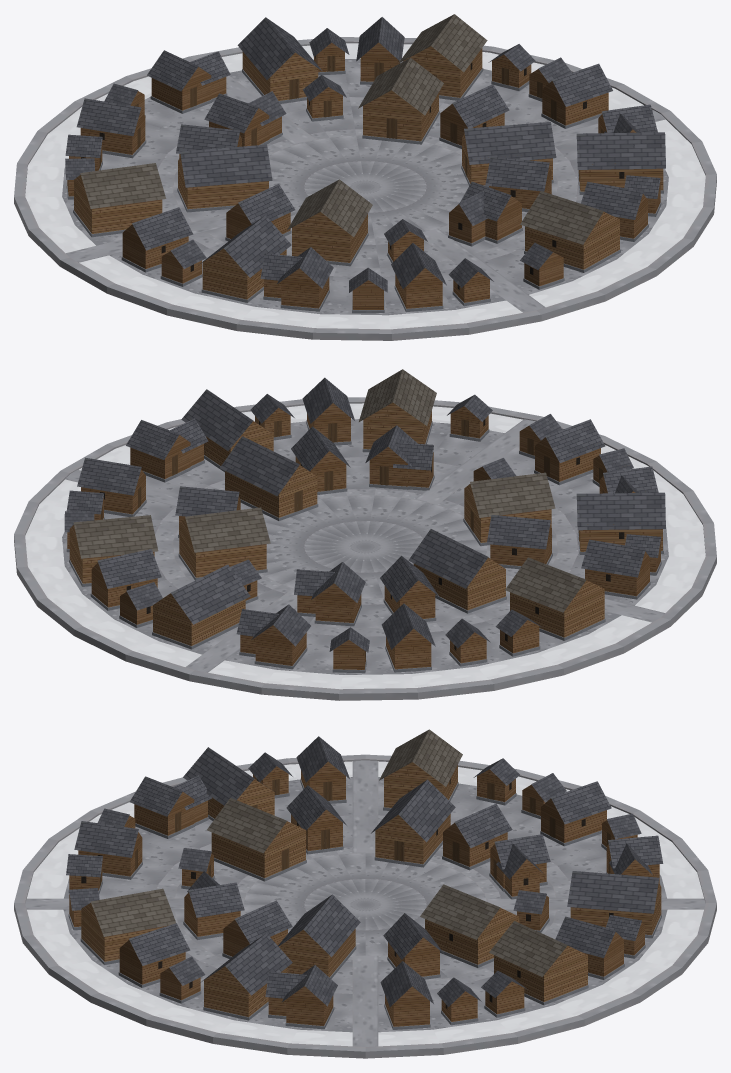
Rendered from ae_snow_village_large_lod1.glb.
3 renders of one model, top to bottom at view 1: azimuth 30°, elevation 25°; view 2: azimuth 150°, elevation 25°; view 3: azimuth 270°, elevation 25°, orthographic.
Visible parts, largest first — view 1: ae_snow_village_large_lod1; view 2: ae_snow_village_large_lod1; view 3: ae_snow_village_large_lod1.
Part boxes in pixels (x1,y1,x2,y2): ae_snow_village_large_lod1: [14, 14, 716, 340]; ae_snow_village_large_lod1: [14, 369, 716, 700]; ae_snow_village_large_lod1: [14, 729, 716, 1058].
Size of the model in its own units: 1.9 by 0.1715 by 1.9.
1 material, 1 textured.
